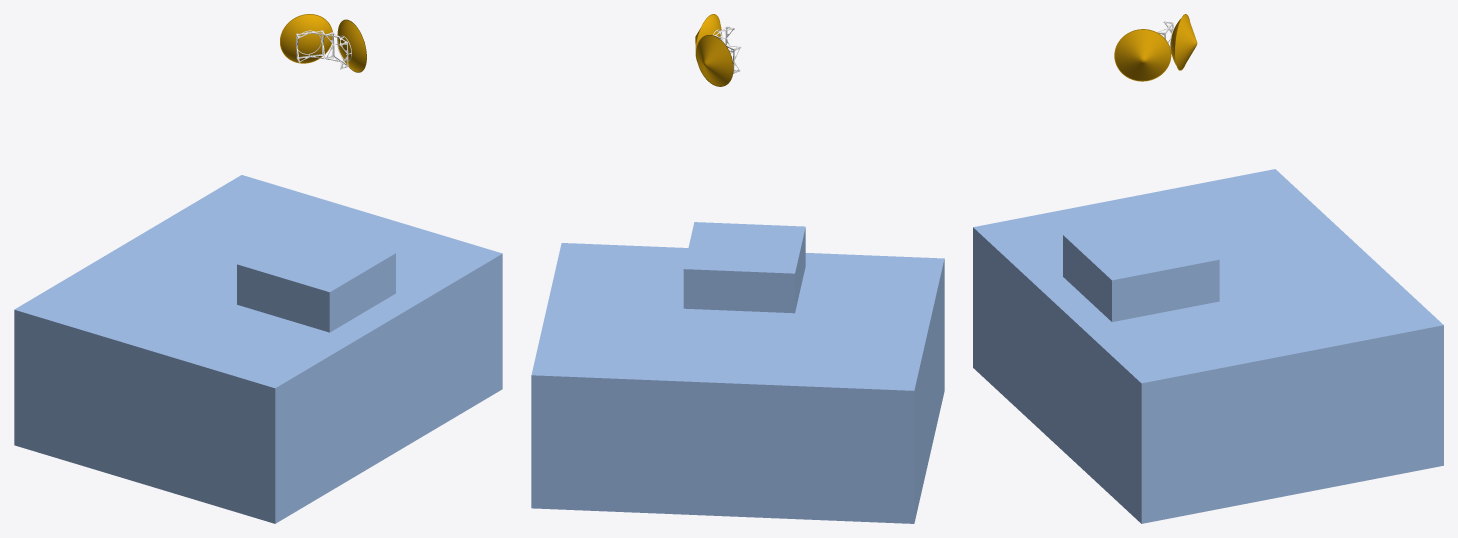
The model's file is ang新川ダム.glb.
3 renders of one model, left to right at view 1: azimuth 30°, elevation 25°; view 2: azimuth 150°, elevation 25°; view 3: azimuth 270°, elevation 25°, orthographic. The views are drawn at different scales.
Parts seen in each view (by area): view 1: group_6, group_7, group_24.004, group_24; view 2: group_6, group_7, group_24.004; view 3: group_6, group_7, group_24, group_24.004.
Boxes of the visible parts, x1,y1,x2,y2 form: group_6: [14, 175, 502, 523]; group_7: [237, 225, 395, 332]; group_24.004: [280, 14, 332, 62]; group_24: [337, 20, 366, 71]; group_6: [531, 243, 944, 523]; group_7: [683, 222, 805, 313]; group_24.004: [697, 35, 732, 85]; group_6: [973, 169, 1443, 523]; group_7: [1063, 214, 1219, 321]; group_24: [1115, 30, 1170, 80]; group_24.004: [1170, 15, 1197, 69].
Bounding box in the file's own units: 27.48 × 25.02 × 25.5.
